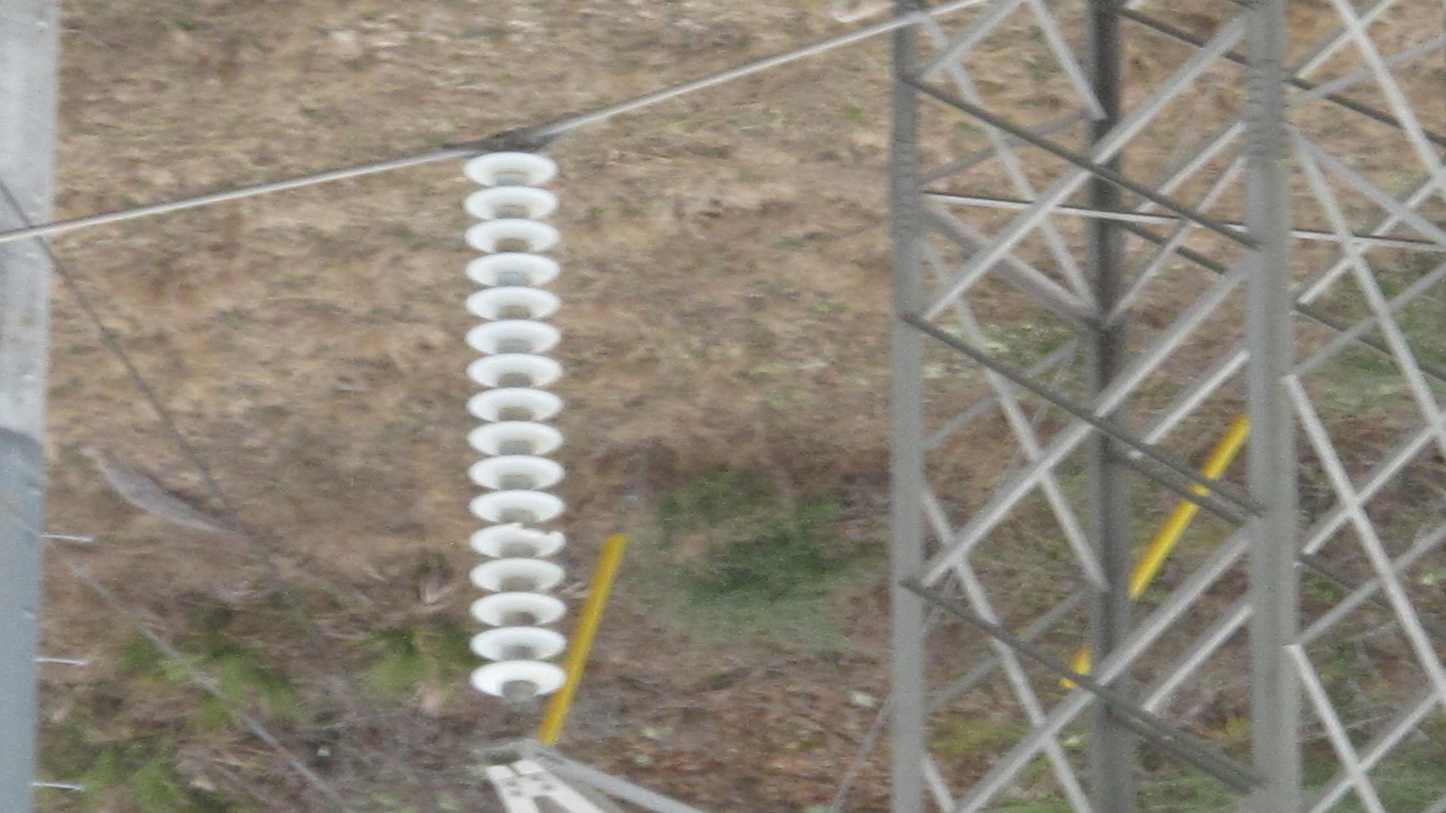insulator: (456, 145, 575, 705)
insulator_breakage: (512, 519, 562, 540)
